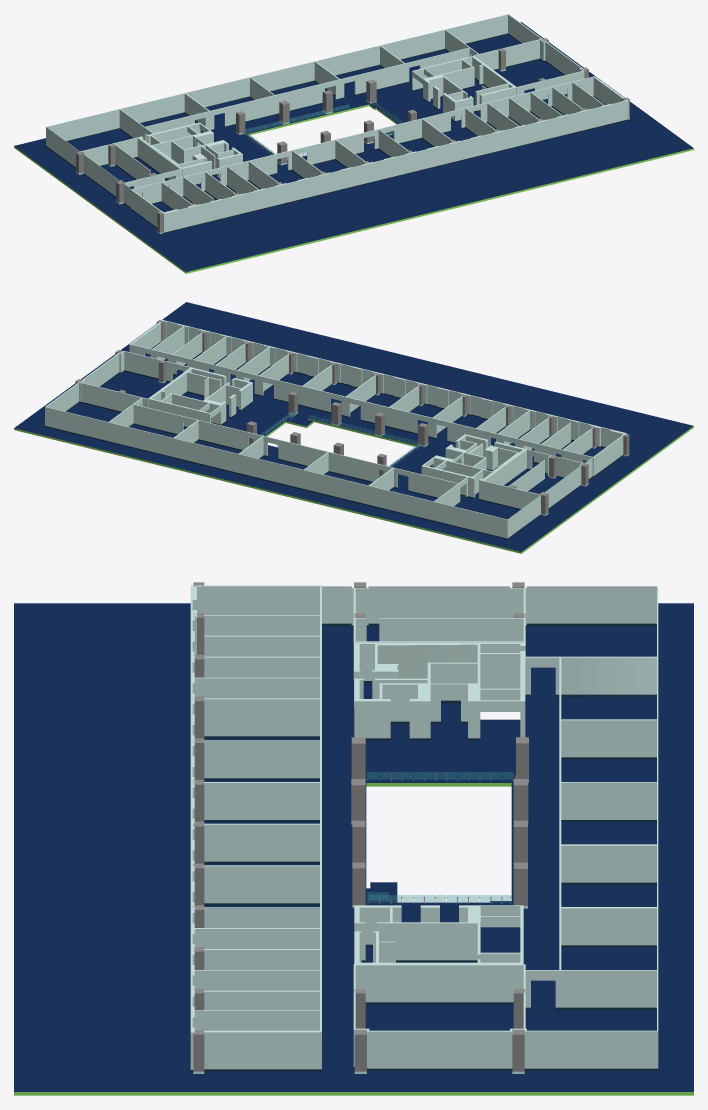
Rendered from 2F_Floor.fbx.
3 renders of one model, top to bottom at view 1: azimuth 30°, elevation 25°; view 2: azimuth 150°, elevation 25°; view 3: azimuth 270°, elevation 25°, orthographic. The views are drawn at different scales.
Visible parts, largest first — view 1: 2_Floor, Room_01, Room_02, 2F_EV_02, 2F_EV_01, Center_Pillar_2F, 2F_Pillar, 2F_Fence_A; view 2: 2_Floor, Room_02, Room_01, 2F_EV_02, 2F_EV_01, 2F_Pillar, Center_Pillar_2F, 2F_Fence_A; view 3: 2_Floor, Room_01, Room_02, 2F_EV_01, 2F_EV_02, 2F_Pillar, Center_Pillar_2F, 2F_Fence_A, Elevator_Wall.
Part boxes in pixels (x1=…): 2_Floor: x1=14, y1=22, x2=693, y2=273; Room_01: x1=123, y1=76, x2=628, y2=233; Room_02: x1=46, y1=14, x2=584, y2=197; 2F_EV_02: x1=412, y1=56, x2=515, y2=122; 2F_EV_01: x1=139, y1=123, x2=242, y2=185; Center_Pillar_2F: x1=236, y1=79, x2=416, y2=165; 2F_Pillar: x1=76, y1=38, x2=629, y2=233; 2F_Fence_A: x1=243, y1=100, x2=403, y2=156; 2_Floor: x1=14, y1=302, x2=693, y2=553; Room_02: x1=45, y1=351, x2=582, y2=539; Room_01: x1=129, y1=320, x2=626, y2=479; 2F_EV_02: x1=148, y1=367, x2=252, y2=427; 2F_EV_01: x1=422, y1=434, x2=525, y2=497; 2F_Pillar: x1=75, y1=320, x2=629, y2=515; Center_Pillar_2F: x1=246, y1=391, x2=428, y2=476; 2F_Fence_A: x1=260, y1=411, x2=420, y2=466; 2_Floor: x1=14, y1=603, x2=693, y2=1095; Room_01: x1=190, y1=585, x2=353, y2=1072; Room_02: x1=353, y1=586, x2=658, y2=1070; 2F_EV_01: x1=354, y1=643, x2=522, y2=740; 2F_EV_02: x1=354, y1=905, x2=523, y2=964; 2F_Pillar: x1=193, y1=582, x2=525, y2=1073; Center_Pillar_2F: x1=351, y1=737, x2=528, y2=908; 2F_Fence_A: x1=364, y1=772, x2=515, y2=903; Elevator_Wall: x1=430, y1=683, x2=468, y2=723.
Bounding box in the file's own units: 85 × 3.5 × 50.
